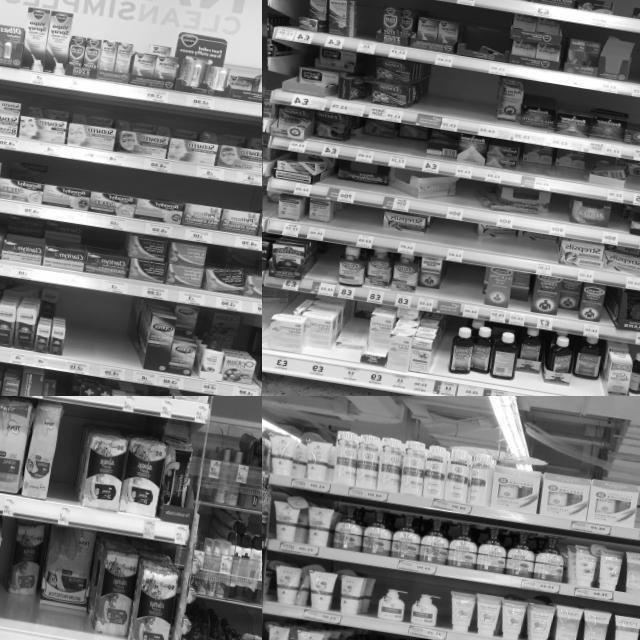Imprecise: (8, 522, 86, 632), (298, 42, 351, 94), (326, 162, 394, 192), (171, 302, 196, 379), (514, 326, 542, 389), (578, 334, 602, 394), (475, 224, 517, 256), (360, 118, 396, 152), (554, 148, 588, 184), (522, 230, 560, 262), (516, 144, 552, 176), (510, 268, 532, 314), (558, 278, 580, 322), (396, 124, 426, 154)
